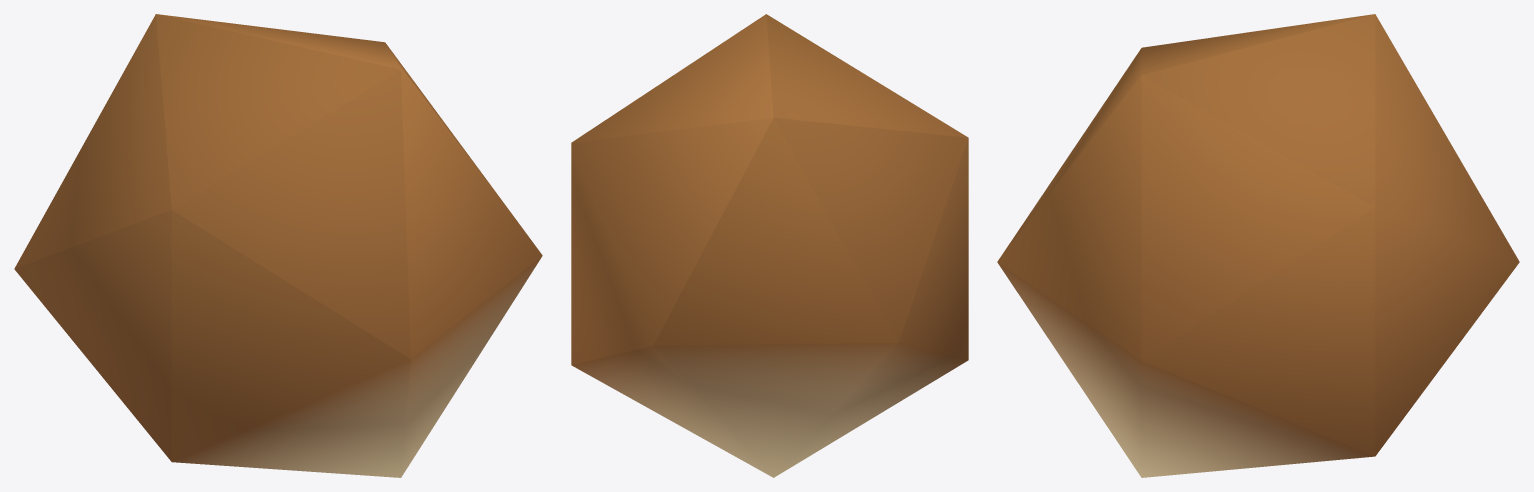
File: hazelnut_0.glb
The picture shows the model from 3 angles, left to right: view 1: azimuth 30°, elevation 25°; view 2: azimuth 150°, elevation 25°; view 3: azimuth 270°, elevation 25°; orthographic projection. The views are drawn at different scales.
Visible parts, largest first — view 1: hazelnut_0; view 2: hazelnut_0; view 3: hazelnut_0.
Part boxes in pixels (left/top/right/bottom): hazelnut_0: left=14, top=14, right=542, bottom=477; hazelnut_0: left=571, top=14, right=968, bottom=477; hazelnut_0: left=997, top=14, right=1519, bottom=477.
Bounding box in the file's own units: 0.2326 × 0.2212 × 0.26.
